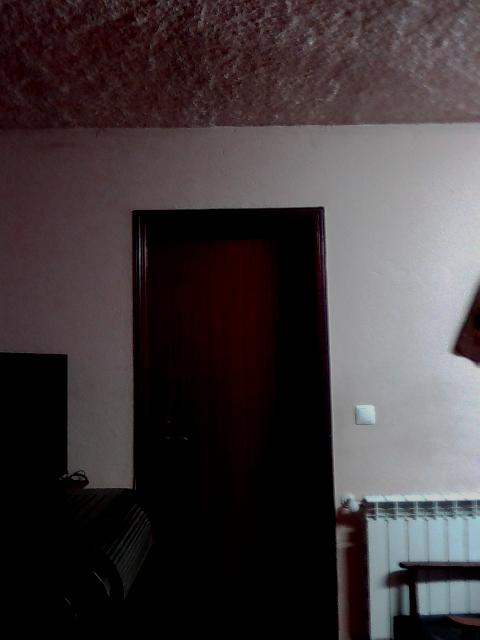closed_door: (130, 206, 337, 639)
